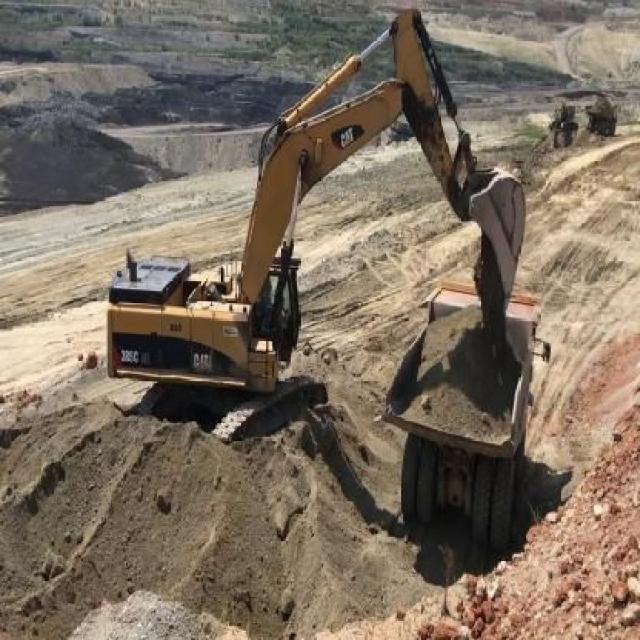dump_truck: (386, 267, 542, 558), (584, 100, 619, 134)
excavator: (99, 1, 527, 452), (550, 99, 578, 144)
